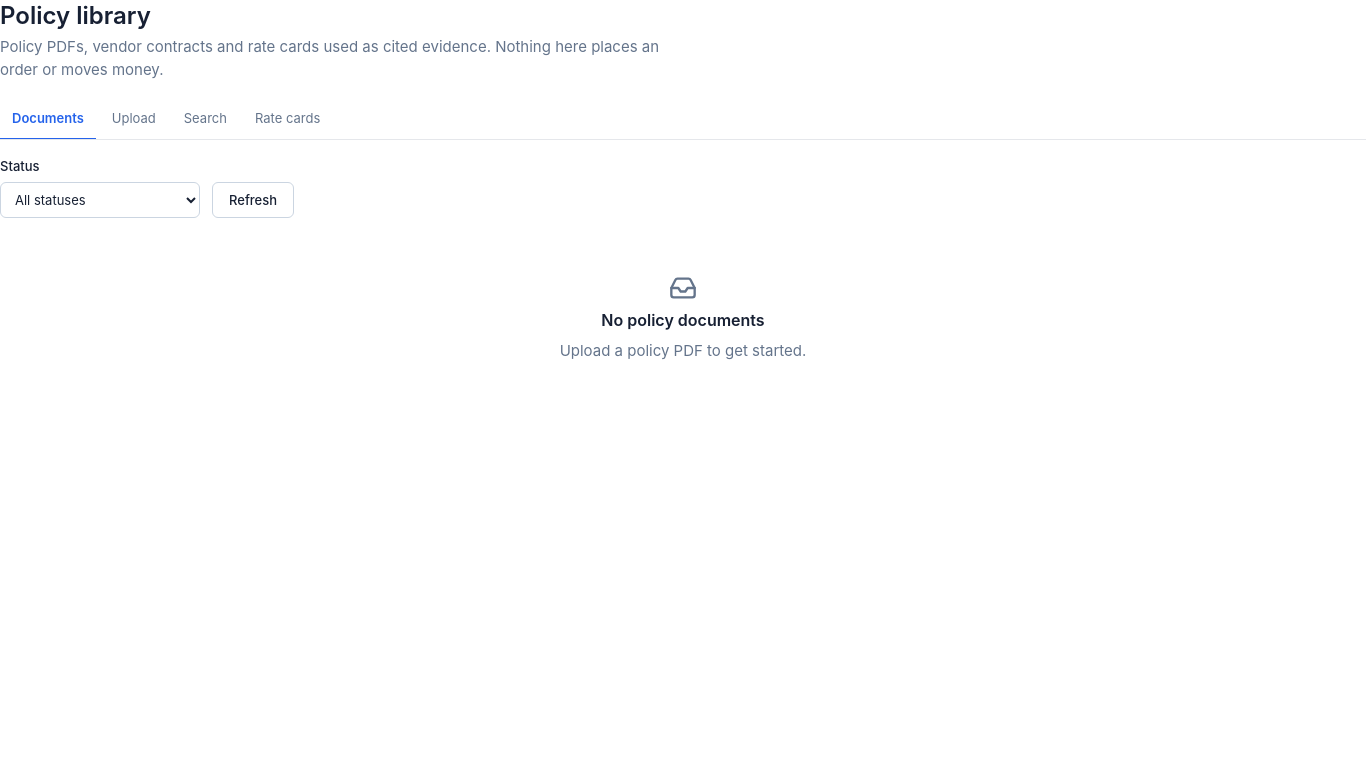
Test: PolicyLibraryPage — search › shows insufficient-evidence and degraded-mode warnings
Click the tab "Search" at (205, 119), box 172,98 -> 239,140
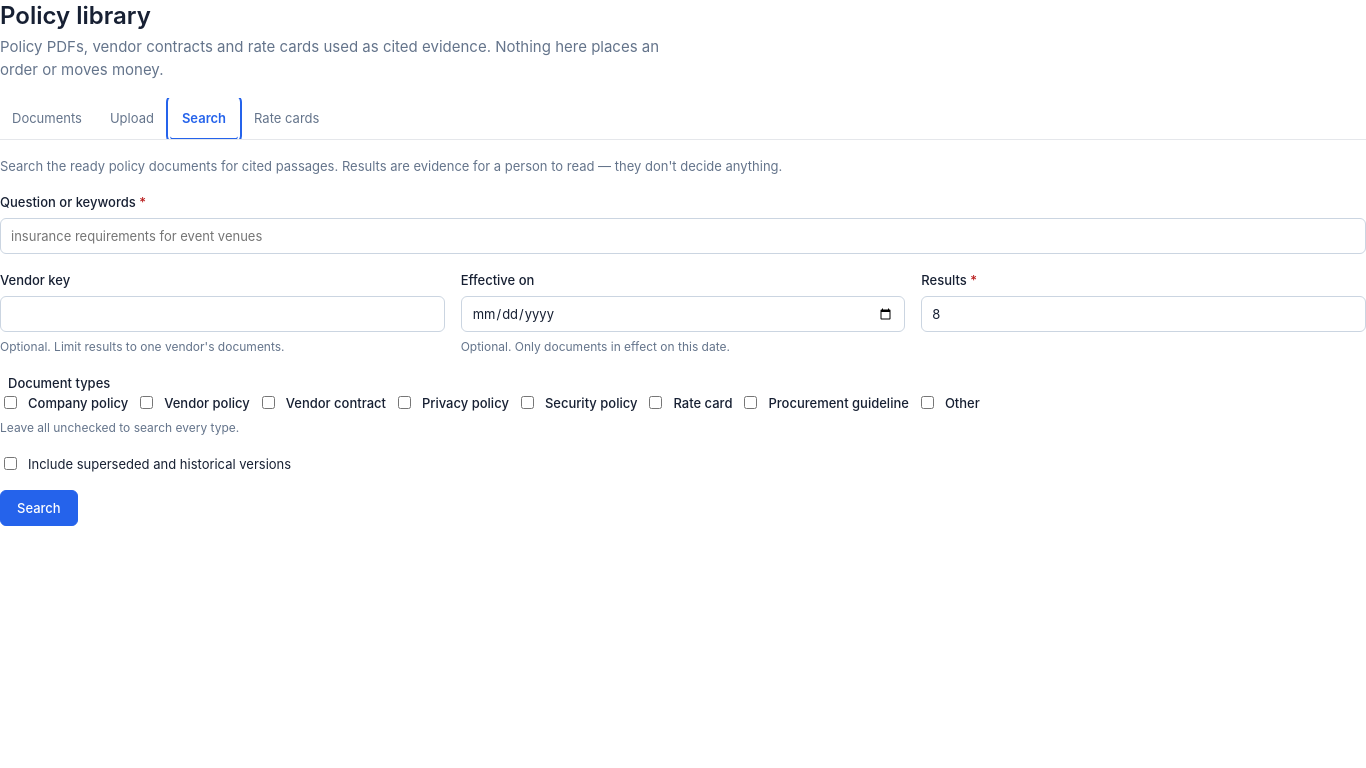
Type "alcohol" into the search field labelled "Question or keywords" at (683, 236), box 0,218 -> 1365,254
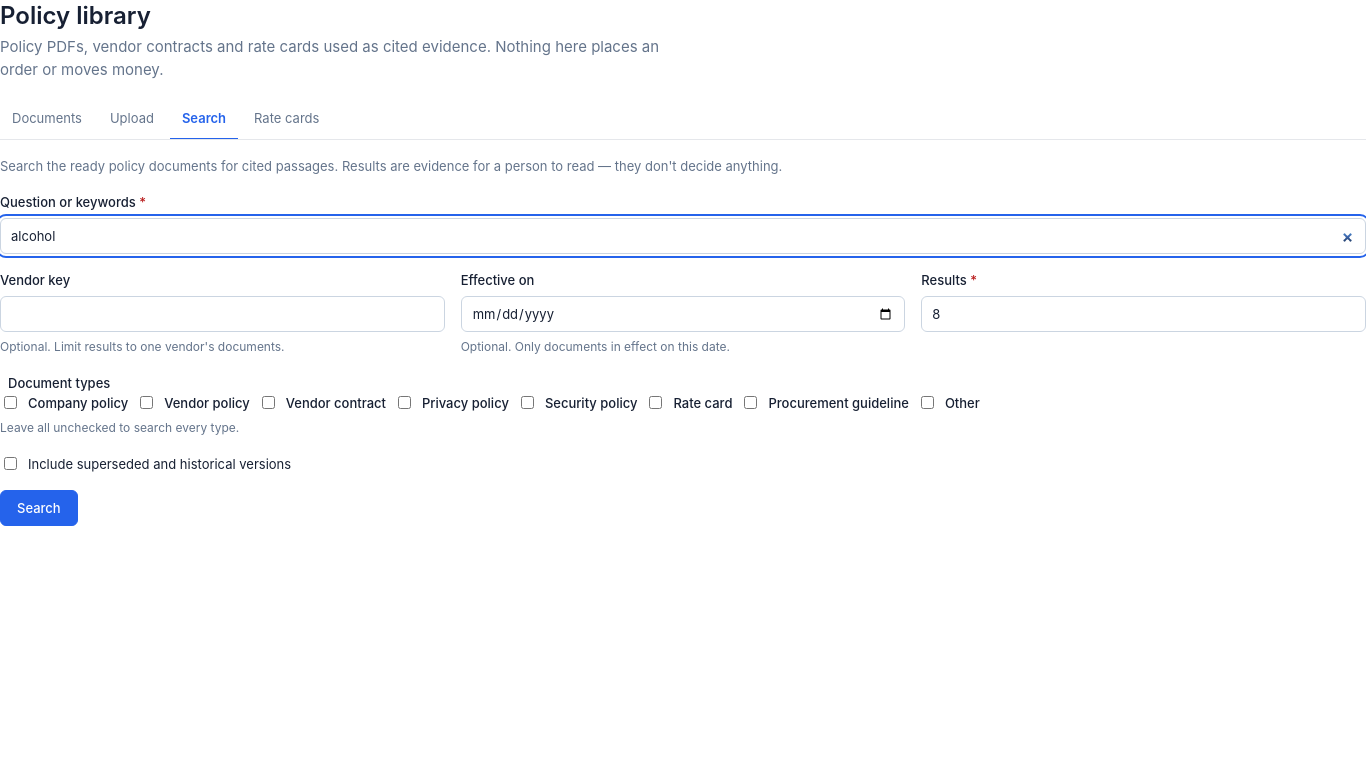
Click the button "Search" at (39, 508), box 0,490 -> 78,526
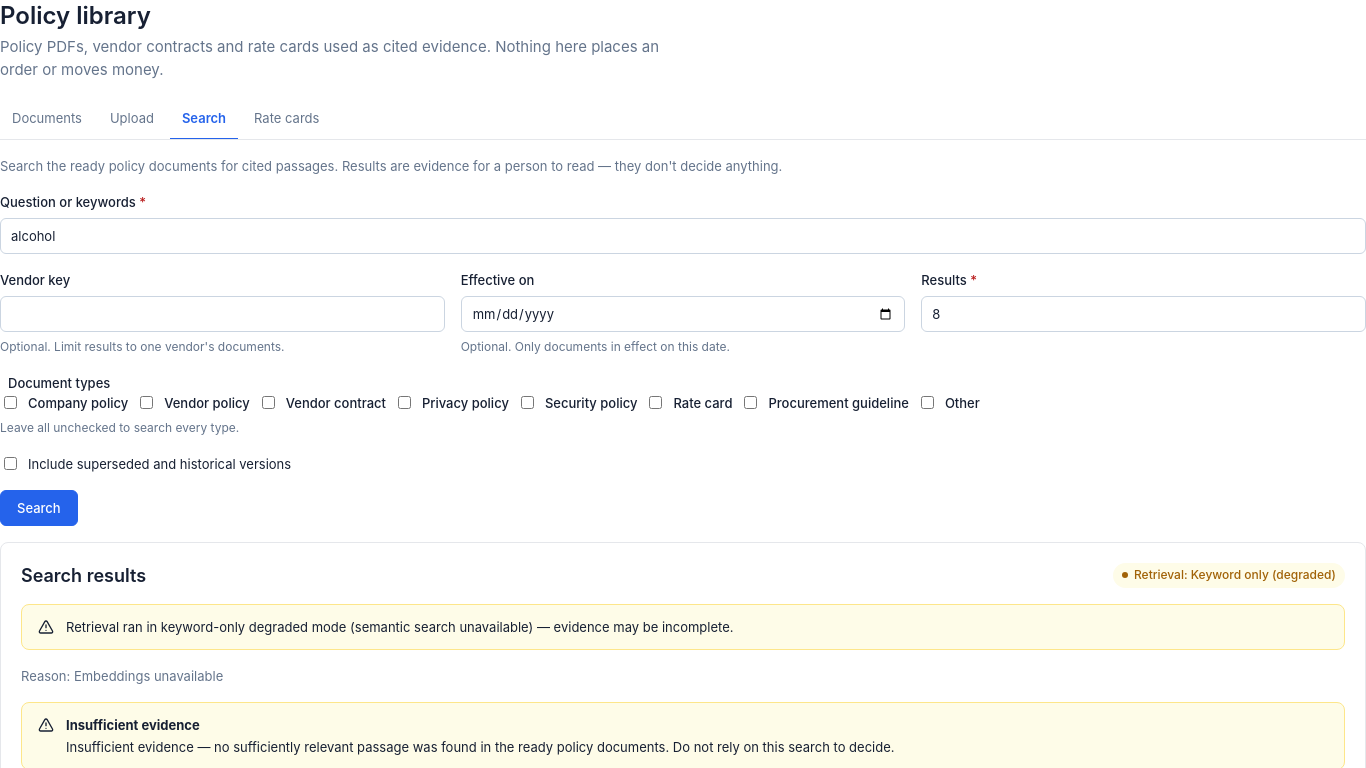
Check: the text "Insufficient evidence" is shown, box 66,717 -> 200,733
Check: the text "Do not rely on this search to decide" is shown, box 66,739 -> 894,755
Check: the text with test id "retrieval-mode" shows "Keyword only (degraded)", box 1191,567 -> 1336,582
